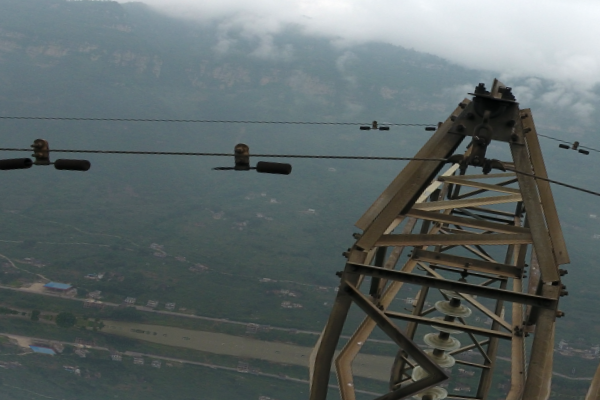damper: (1, 137, 93, 177), (557, 140, 590, 156), (356, 120, 392, 132)
damper_defect: (205, 141, 292, 177)
